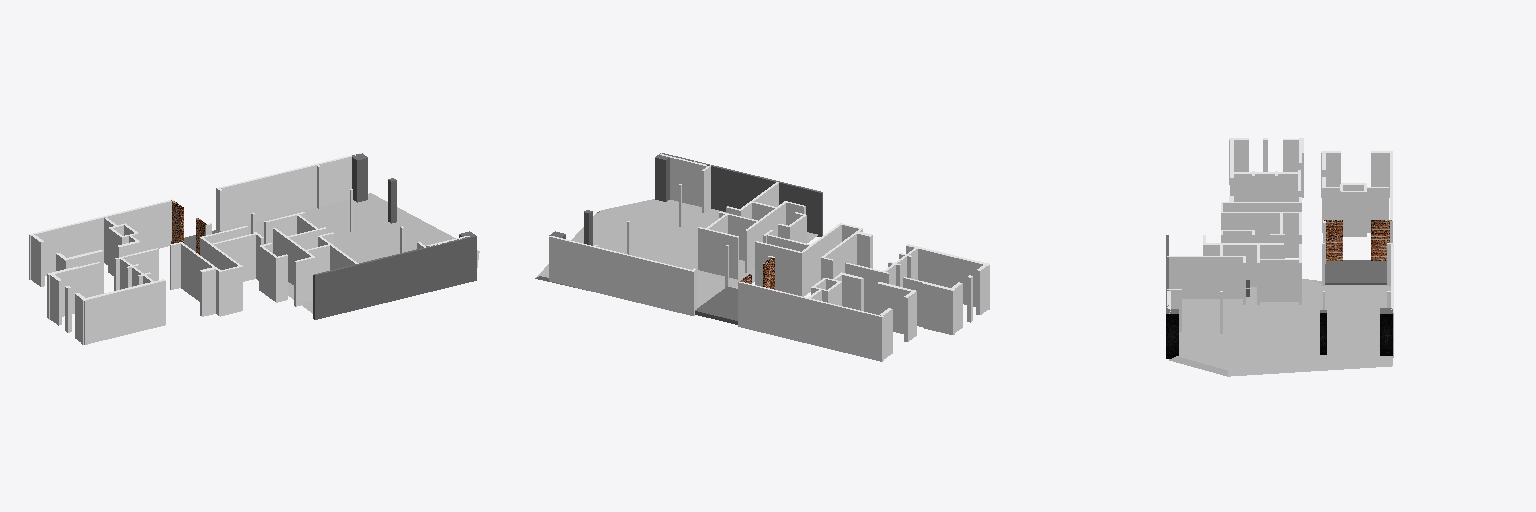
The picture shows the model from 3 angles: view 1: azimuth 30°, elevation 25°; view 2: azimuth 150°, elevation 25°; view 3: azimuth 270°, elevation 25°; orthographic projection.
Parts seen in each view (by area): view 1: pCube21, pCube22, pCube68, pCube53, pCube66, pCube35, pCube70, pCube59, pCube3, pCube1, pCube8, pCube16 (+10 smaller); view 2: pCube22, pCube68, pCube66, pCube21, pCube70, pCube35, pCube53, pCube7, pCube13, pCube52, pCube62, pCube2 (+12 smaller); view 3: pCube68, pCube70, pCube6, pCube2, pCube63, pCube14, pCube71, pCube4, pCube31, pCube26, pCube3, pCube23 (+7 smaller).
Boxes of the visible parts, box(x1,y1,x2,y2) form: pCube21: box(313, 236, 474, 319); pCube22: box(29, 199, 173, 279); pCube68: box(315, 193, 479, 267); pCube53: box(81, 279, 165, 344); pCube66: box(260, 153, 361, 220); pCube35: box(216, 165, 316, 229); pCube70: box(223, 208, 381, 313); pCube59: box(57, 262, 100, 316); pCube3: box(181, 242, 220, 315); pCube1: box(213, 233, 256, 281); pCube8: box(220, 266, 242, 316); pCube16: box(294, 257, 315, 306); pCube22: box(738, 282, 883, 361); pCube68: box(535, 199, 701, 290); pCube66: box(549, 236, 650, 305); pCube21: box(662, 153, 822, 236); pCube70: box(643, 209, 817, 307); pCube35: box(592, 247, 694, 315); pCube53: box(906, 244, 989, 309); pCube7: box(755, 241, 802, 296); pCube13: box(698, 227, 738, 279); pCube52: box(923, 282, 954, 334); pCube62: box(660, 153, 706, 206); pCube2: box(802, 224, 841, 296); pCube68: box(1169, 332, 1392, 376); pCube70: box(1182, 279, 1390, 331); pCube6: box(1167, 256, 1244, 298); pCube2: box(1221, 212, 1300, 257); pCube63: box(1232, 172, 1299, 201); pCube14: box(1260, 259, 1298, 301); pCube71: box(1325, 260, 1386, 284); pCube4: box(1204, 243, 1283, 286); pCube31: box(1341, 191, 1366, 236); pCube26: box(1367, 187, 1388, 232); pCube3: box(1221, 202, 1300, 211); pCube23: box(1371, 220, 1391, 260).
Size of the model in its own units: 21 by 3.27 by 10.51.
8 materials, 4 textured.